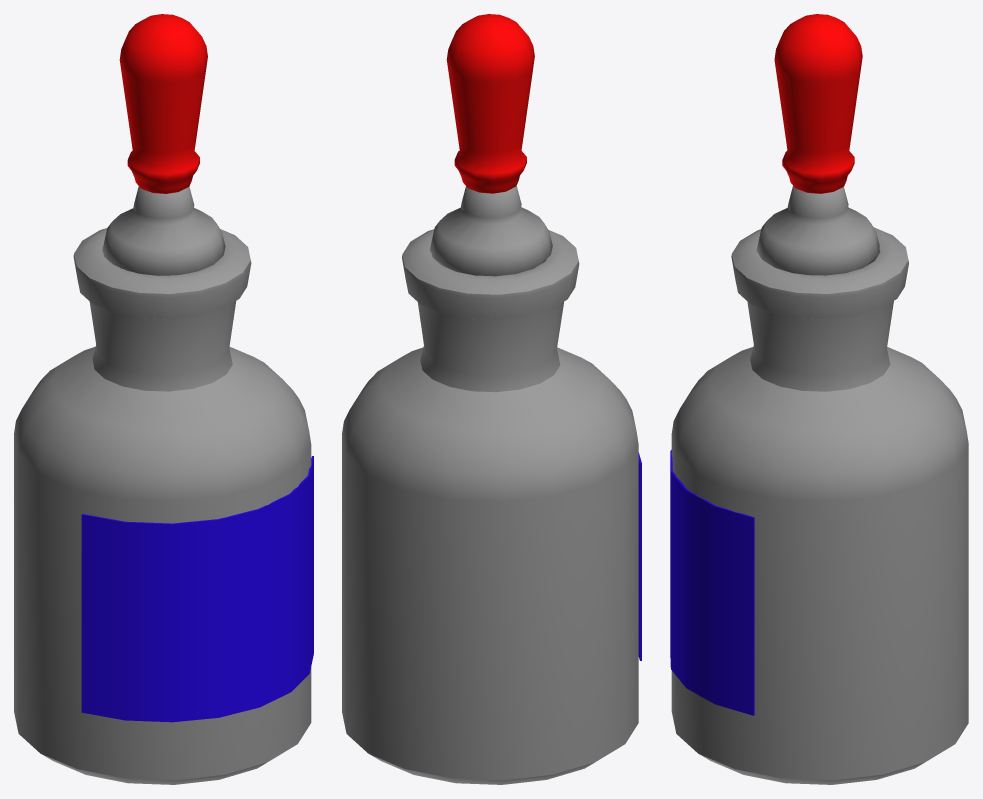
3 views of the same model, side by side, from view 1: azimuth 30°, elevation 25°; view 2: azimuth 150°, elevation 25°; view 3: azimuth 270°, elevation 25° (orthographic).
Parts seen in each view (by area): view 1: 瓶身, 标签, 胶头, 滴瓶; view 2: 瓶身, 胶头, 滴瓶, 标签; view 3: 瓶身, 标签, 胶头, 滴瓶.
Boxes of the visible parts, <box> form: 瓶身: <box>14,228,311,784</box>; 标签: <box>81,456,313,722</box>; 胶头: <box>119,14,207,193</box>; 滴瓶: <box>102,186,225,275</box>; 瓶身: <box>342,229,638,784</box>; 胶头: <box>446,14,534,193</box>; 滴瓶: <box>429,186,552,276</box>; 标签: <box>638,452,641,660</box>; 瓶身: <box>671,227,968,784</box>; 标签: <box>670,450,754,715</box>; 胶头: <box>774,14,862,193</box>; 滴瓶: <box>756,186,879,275</box>.
Bounding box in the file's own units: 5.98 × 15.79 × 6.01.
